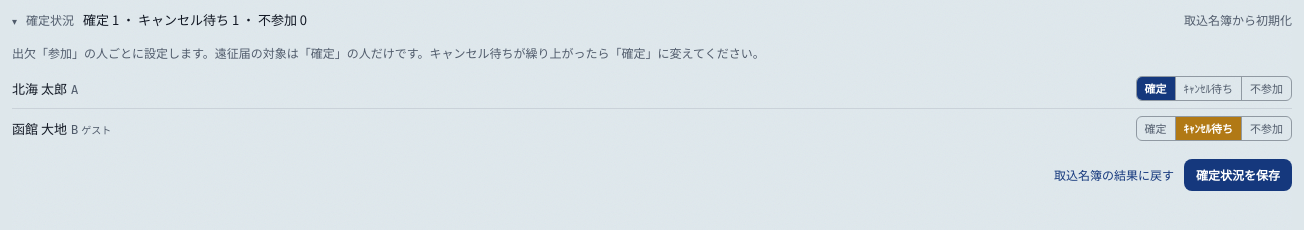
Test: SelectionStatusRows › 保存が失敗するとエラーメッセージを表示する
Step 1. Click the button "確定状況を保存" → (1238, 175), box [1184,159,1292,191]
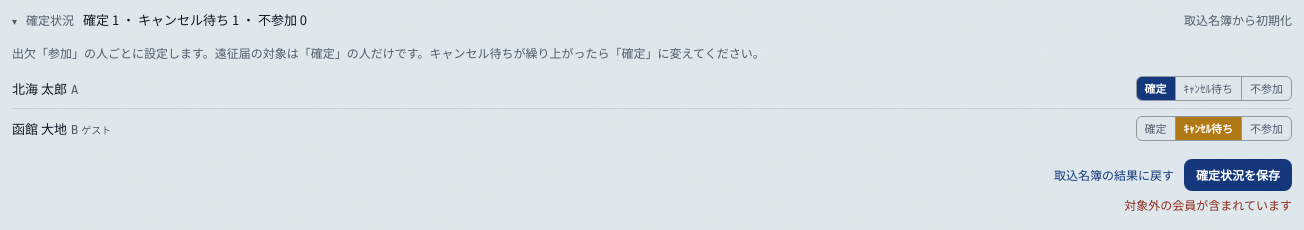
Expected: the message reads "対象外の会員が含まれています", [1124,196,1292,213]
